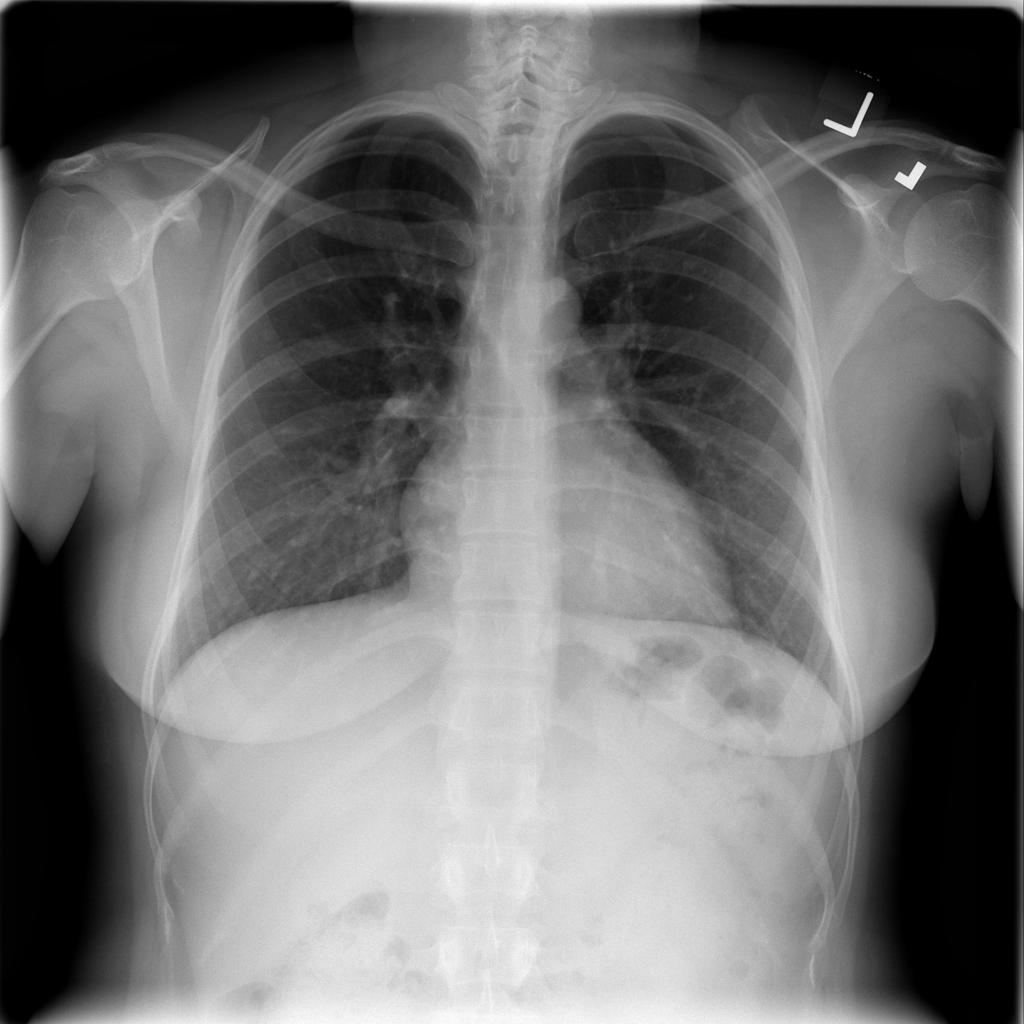nodule: (245, 311, 296, 360)
